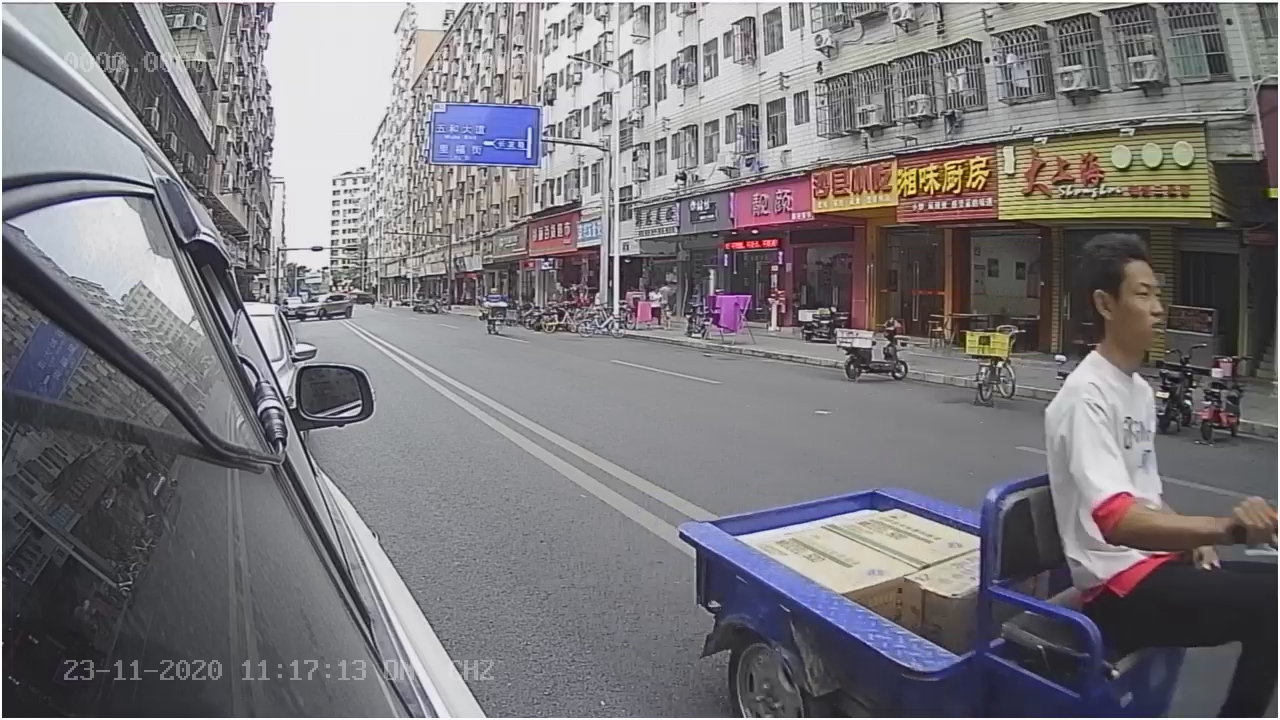person: (1041, 234, 1273, 560)
